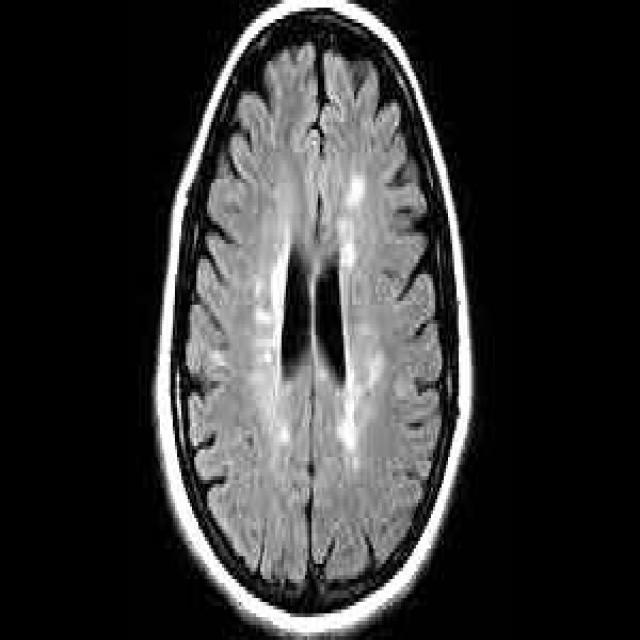notumor: (151, 4, 474, 636)
